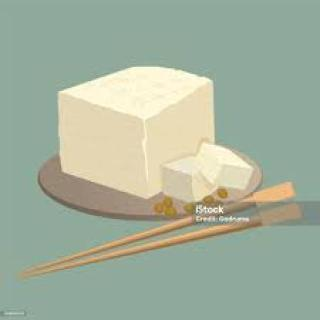Tahu: (42, 48, 264, 206)
